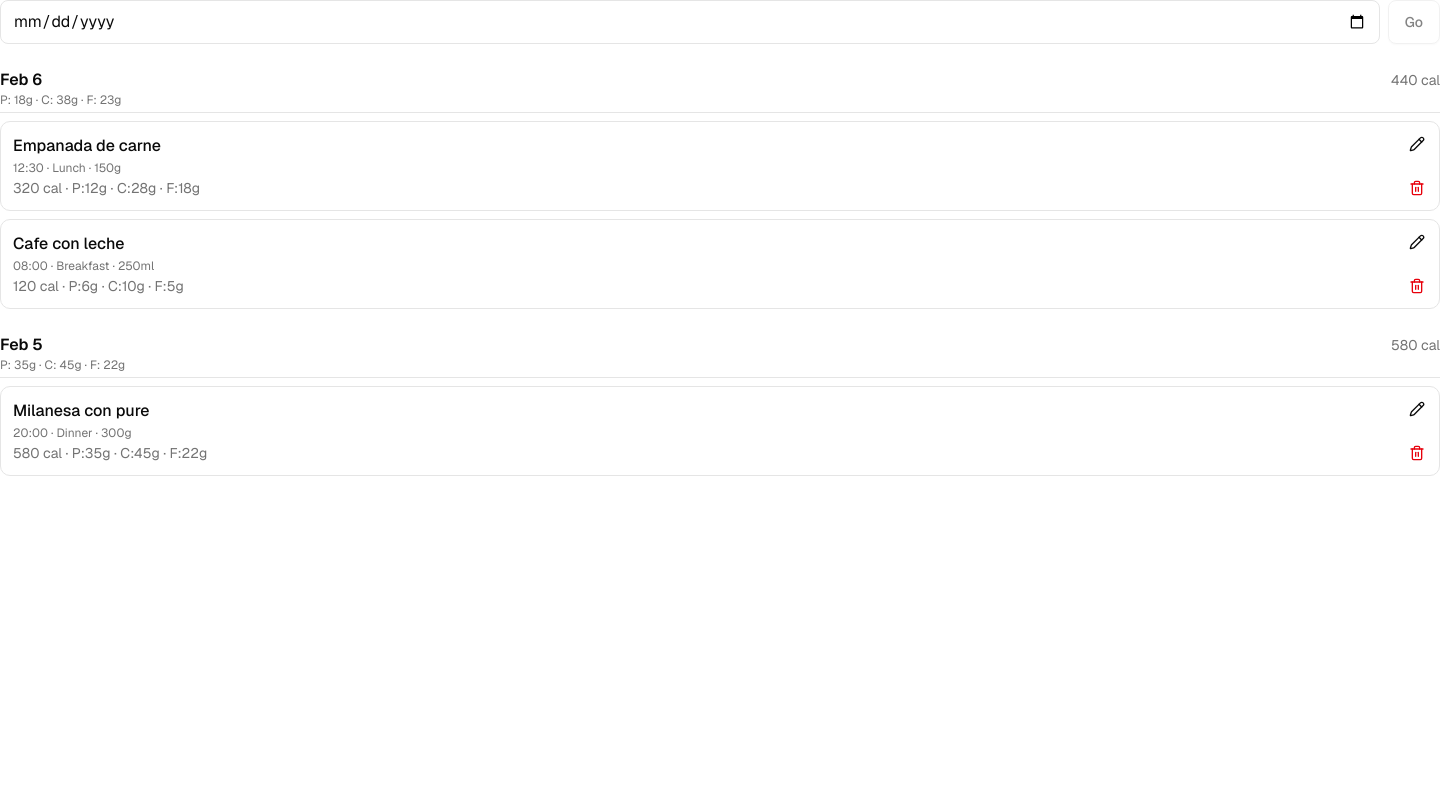
Test case: FoodHistory › delete button opens AlertDialog and confirm deletes entry
Expected: the text "Empanada de carne" is shown, [13, 135, 161, 156]
Click delete button — should open AlertDialog, not immediately delete
Click the button named "delete" at (1417,188), box [1395, 166, 1439, 210]
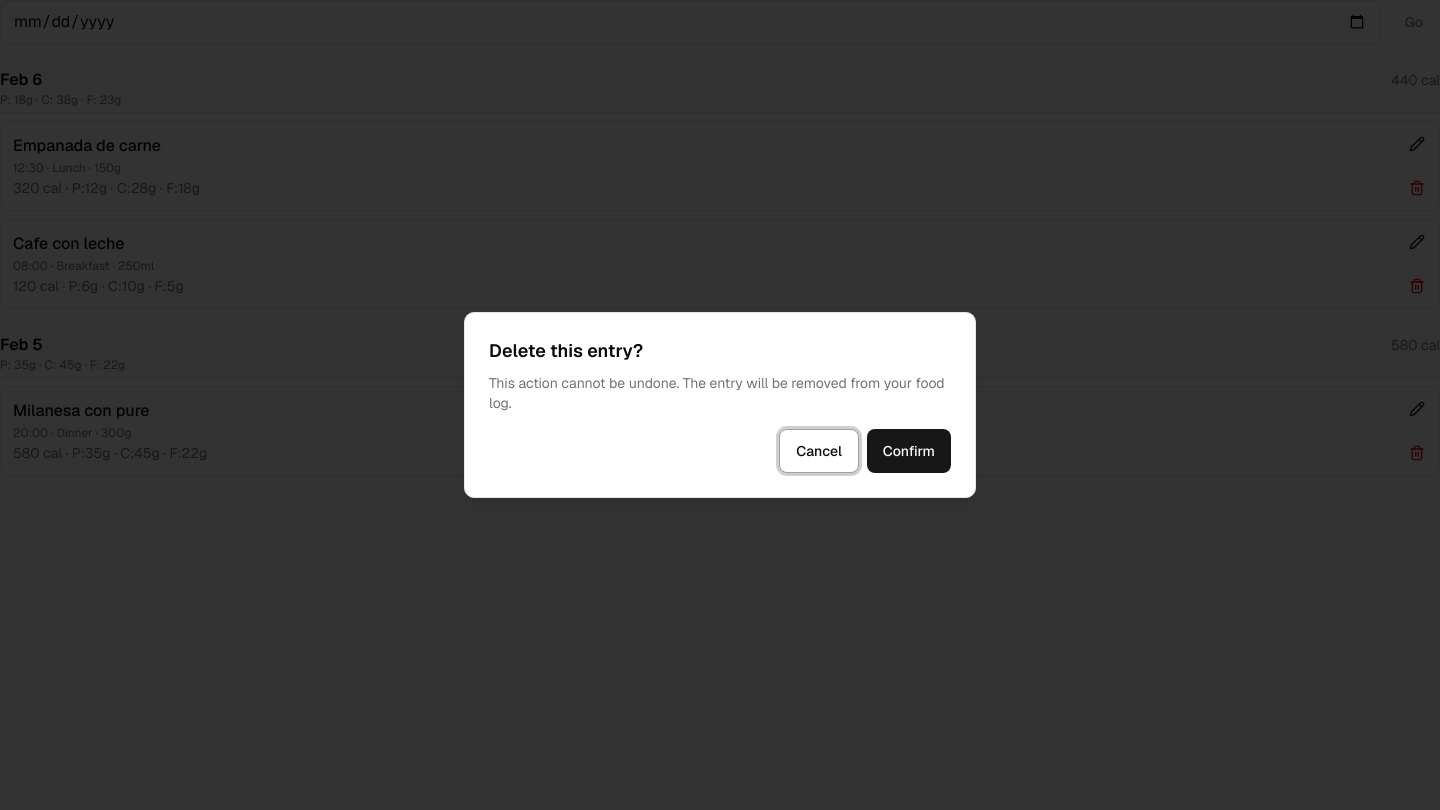
Expected: the dialog is shown, [464, 312, 976, 498]
Expected: the heading "Delete this entry?" is shown, [489, 339, 643, 362]
Click confirm button in the AlertDialog
Click the button "Confirm" at (909,451), box [867, 429, 951, 473]
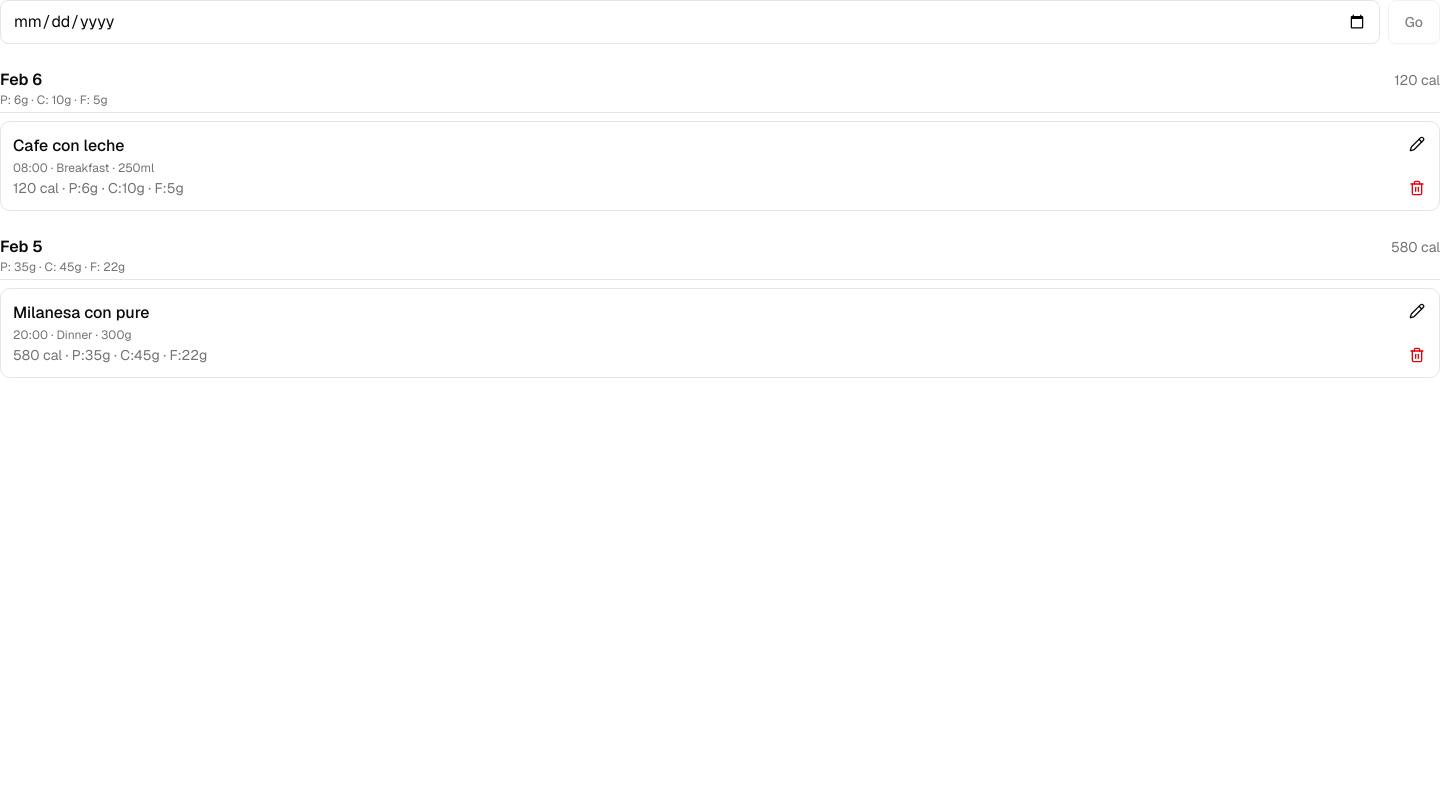
Expected: the button "Empanada de carne" is gone
